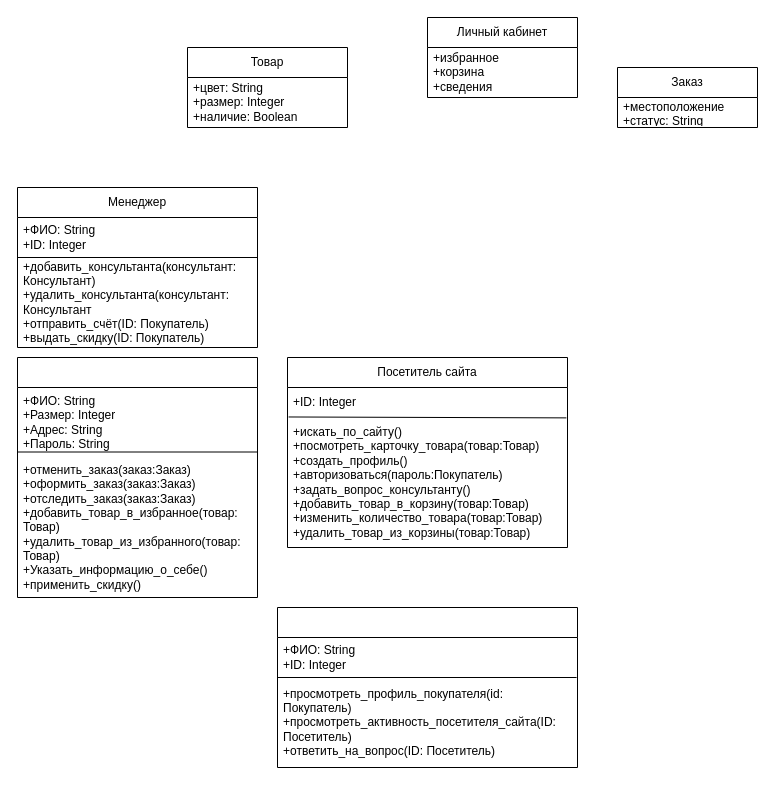
The diagram is 776 pixels wide and 785 high, and some of its shapes have lost their labels. Each missing label, with the box of its shape:
Консультант: (276, 606, 578, 768)
Покупатель: (16, 356, 258, 598)
